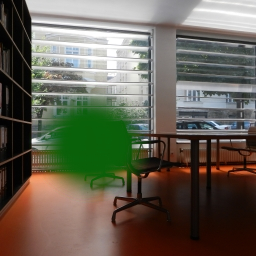focus: (38, 99, 146, 185)
